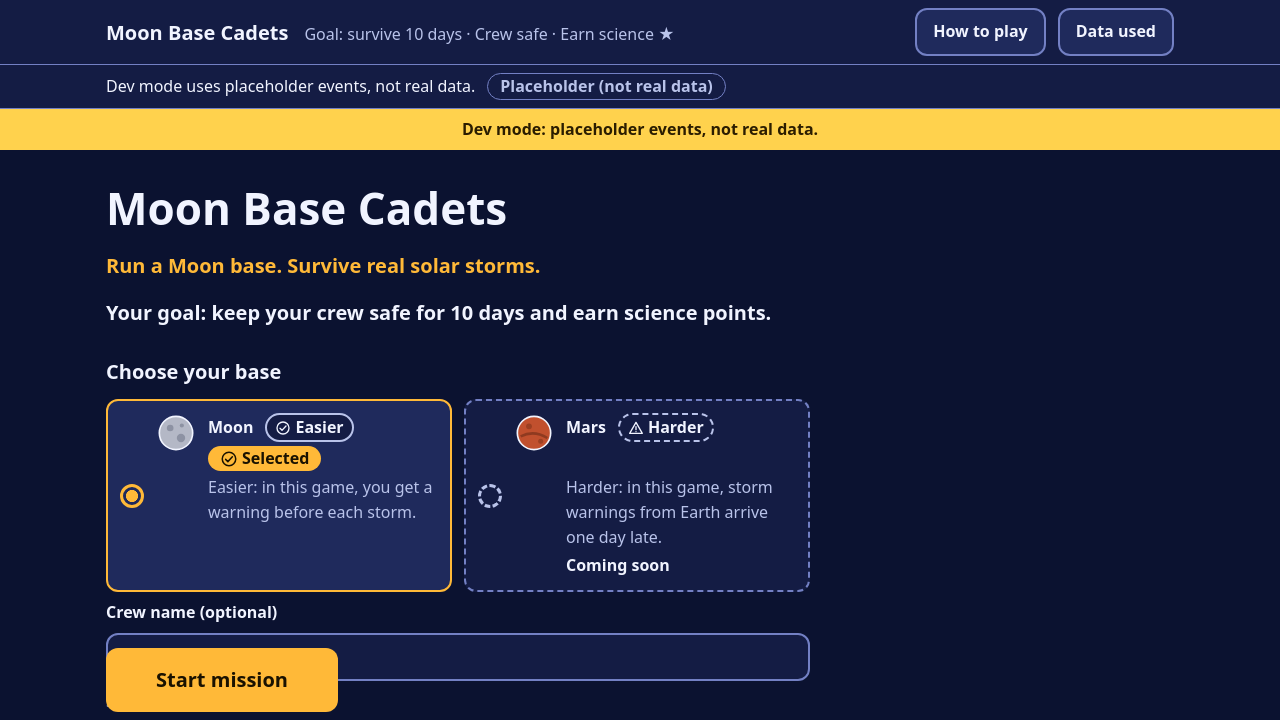
Test case: How to play intro › opens on the first Start, remembers it, and the header button reopens it
Click the button "Start mission". click: (222, 680)
box: [106,648,338,712]
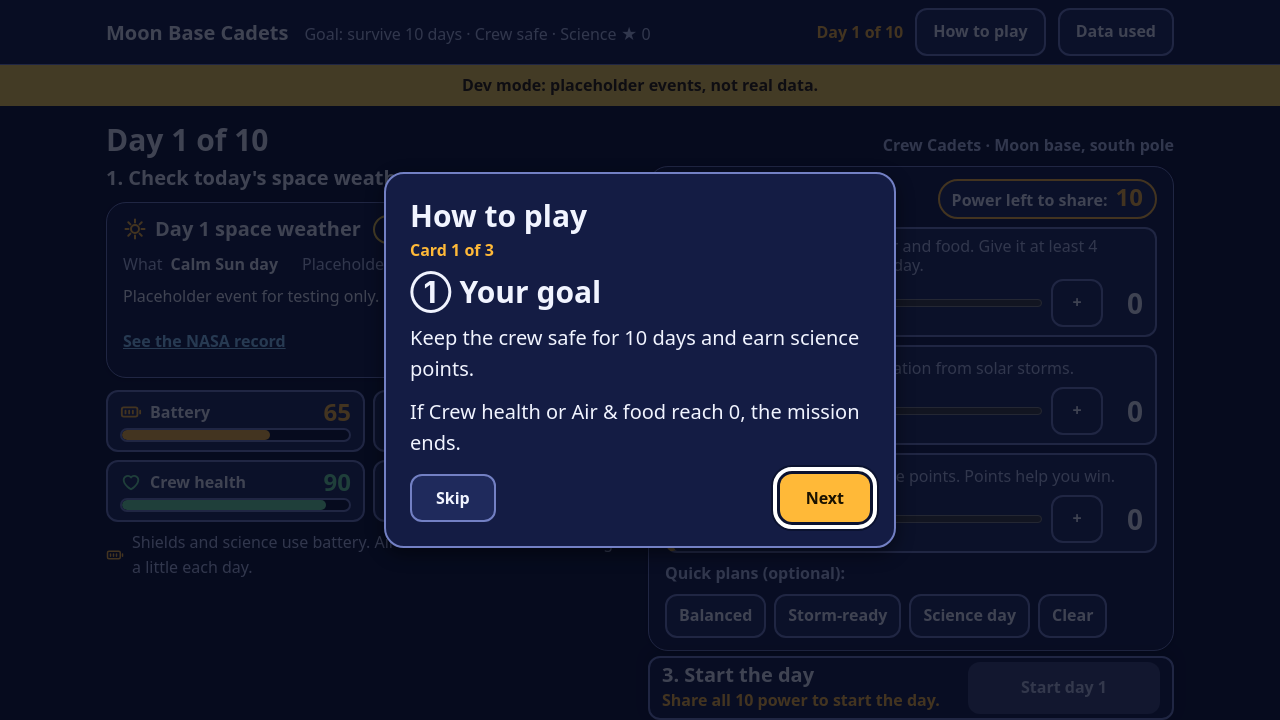
Click the button "Skip". click: (453, 498)
box: [410,474,496,522]
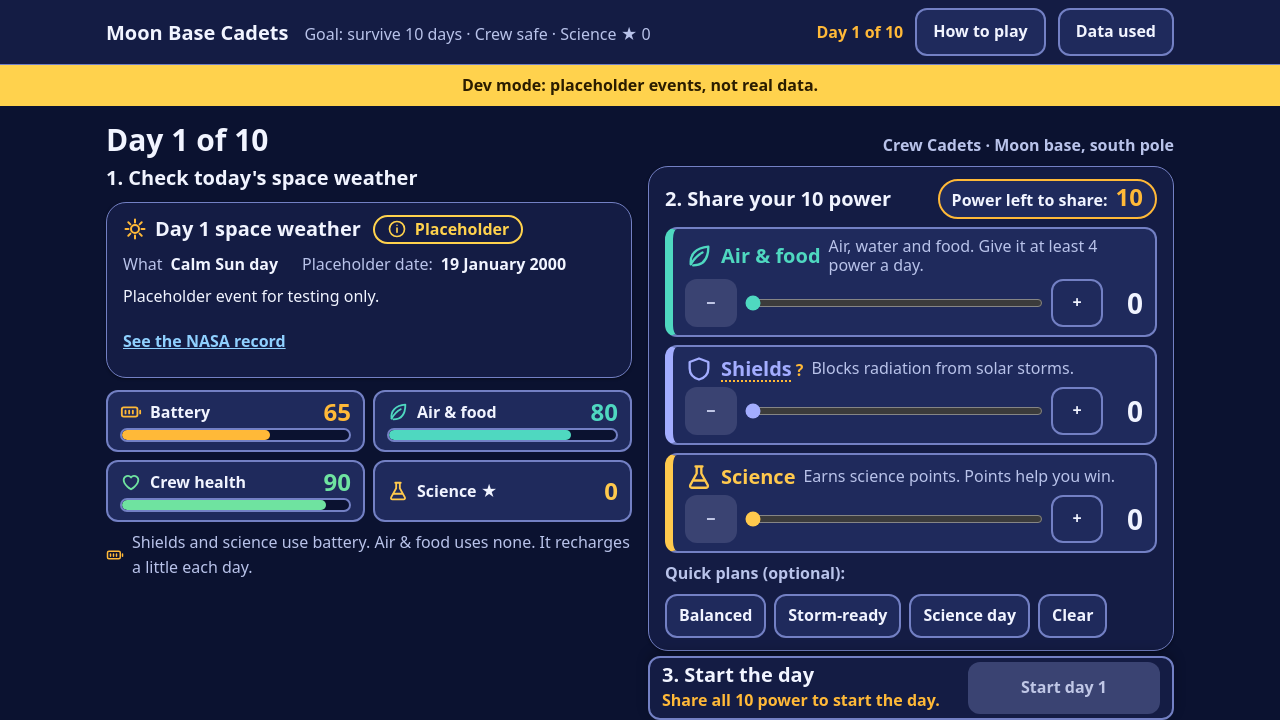
Check: the dialog is gone
Click the button "How to play". click: (980, 32)
box: [915,8,1046,56]
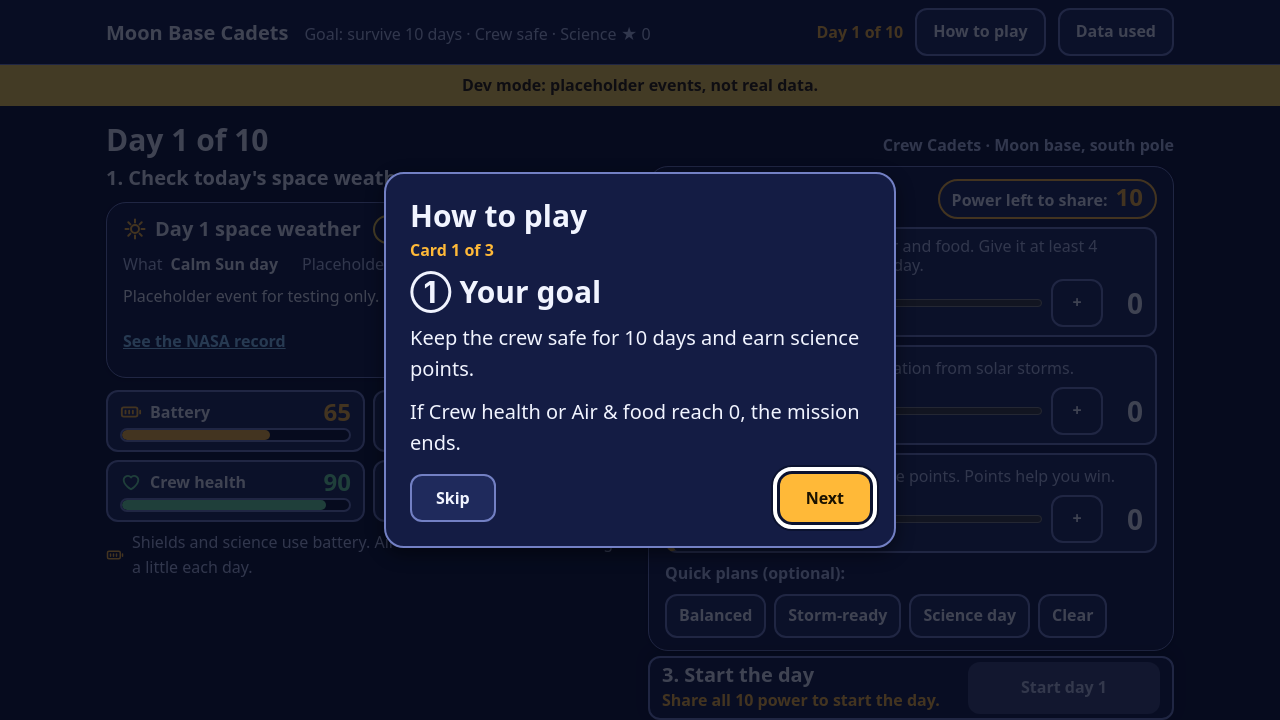
Click the button "Skip". click: (453, 498)
box: [410,474,496,522]
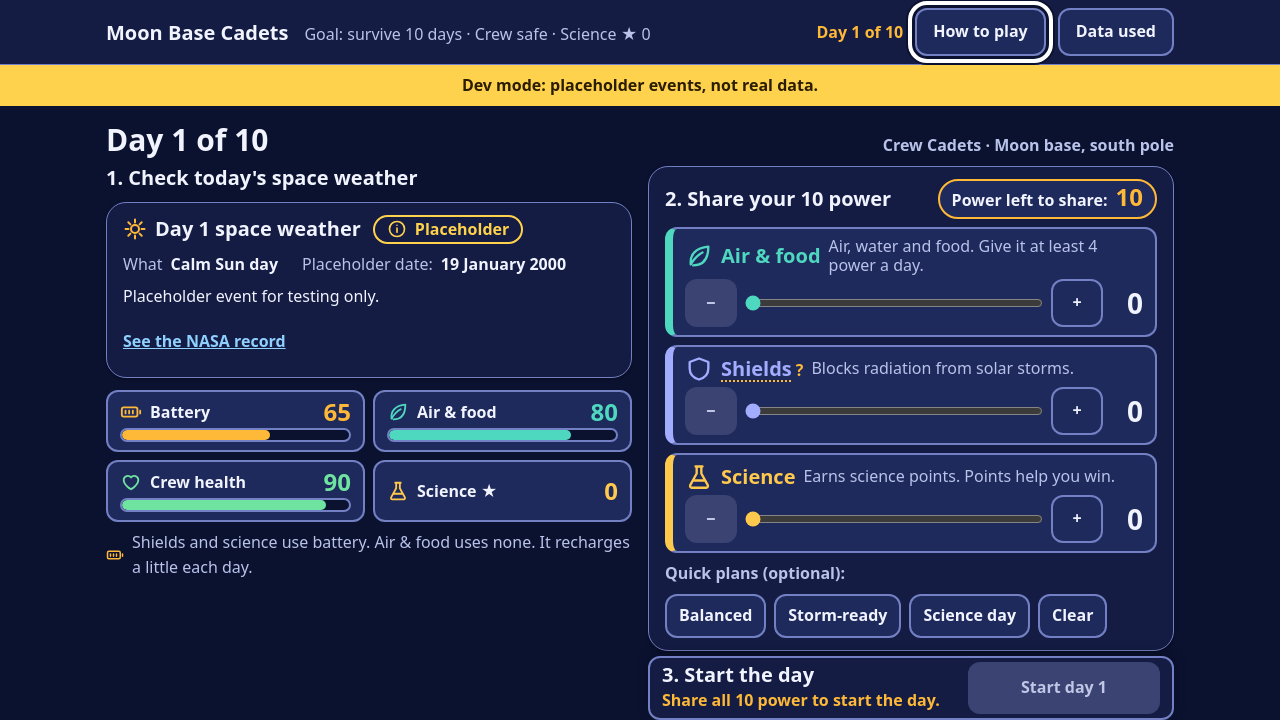
Check: the dialog is gone
